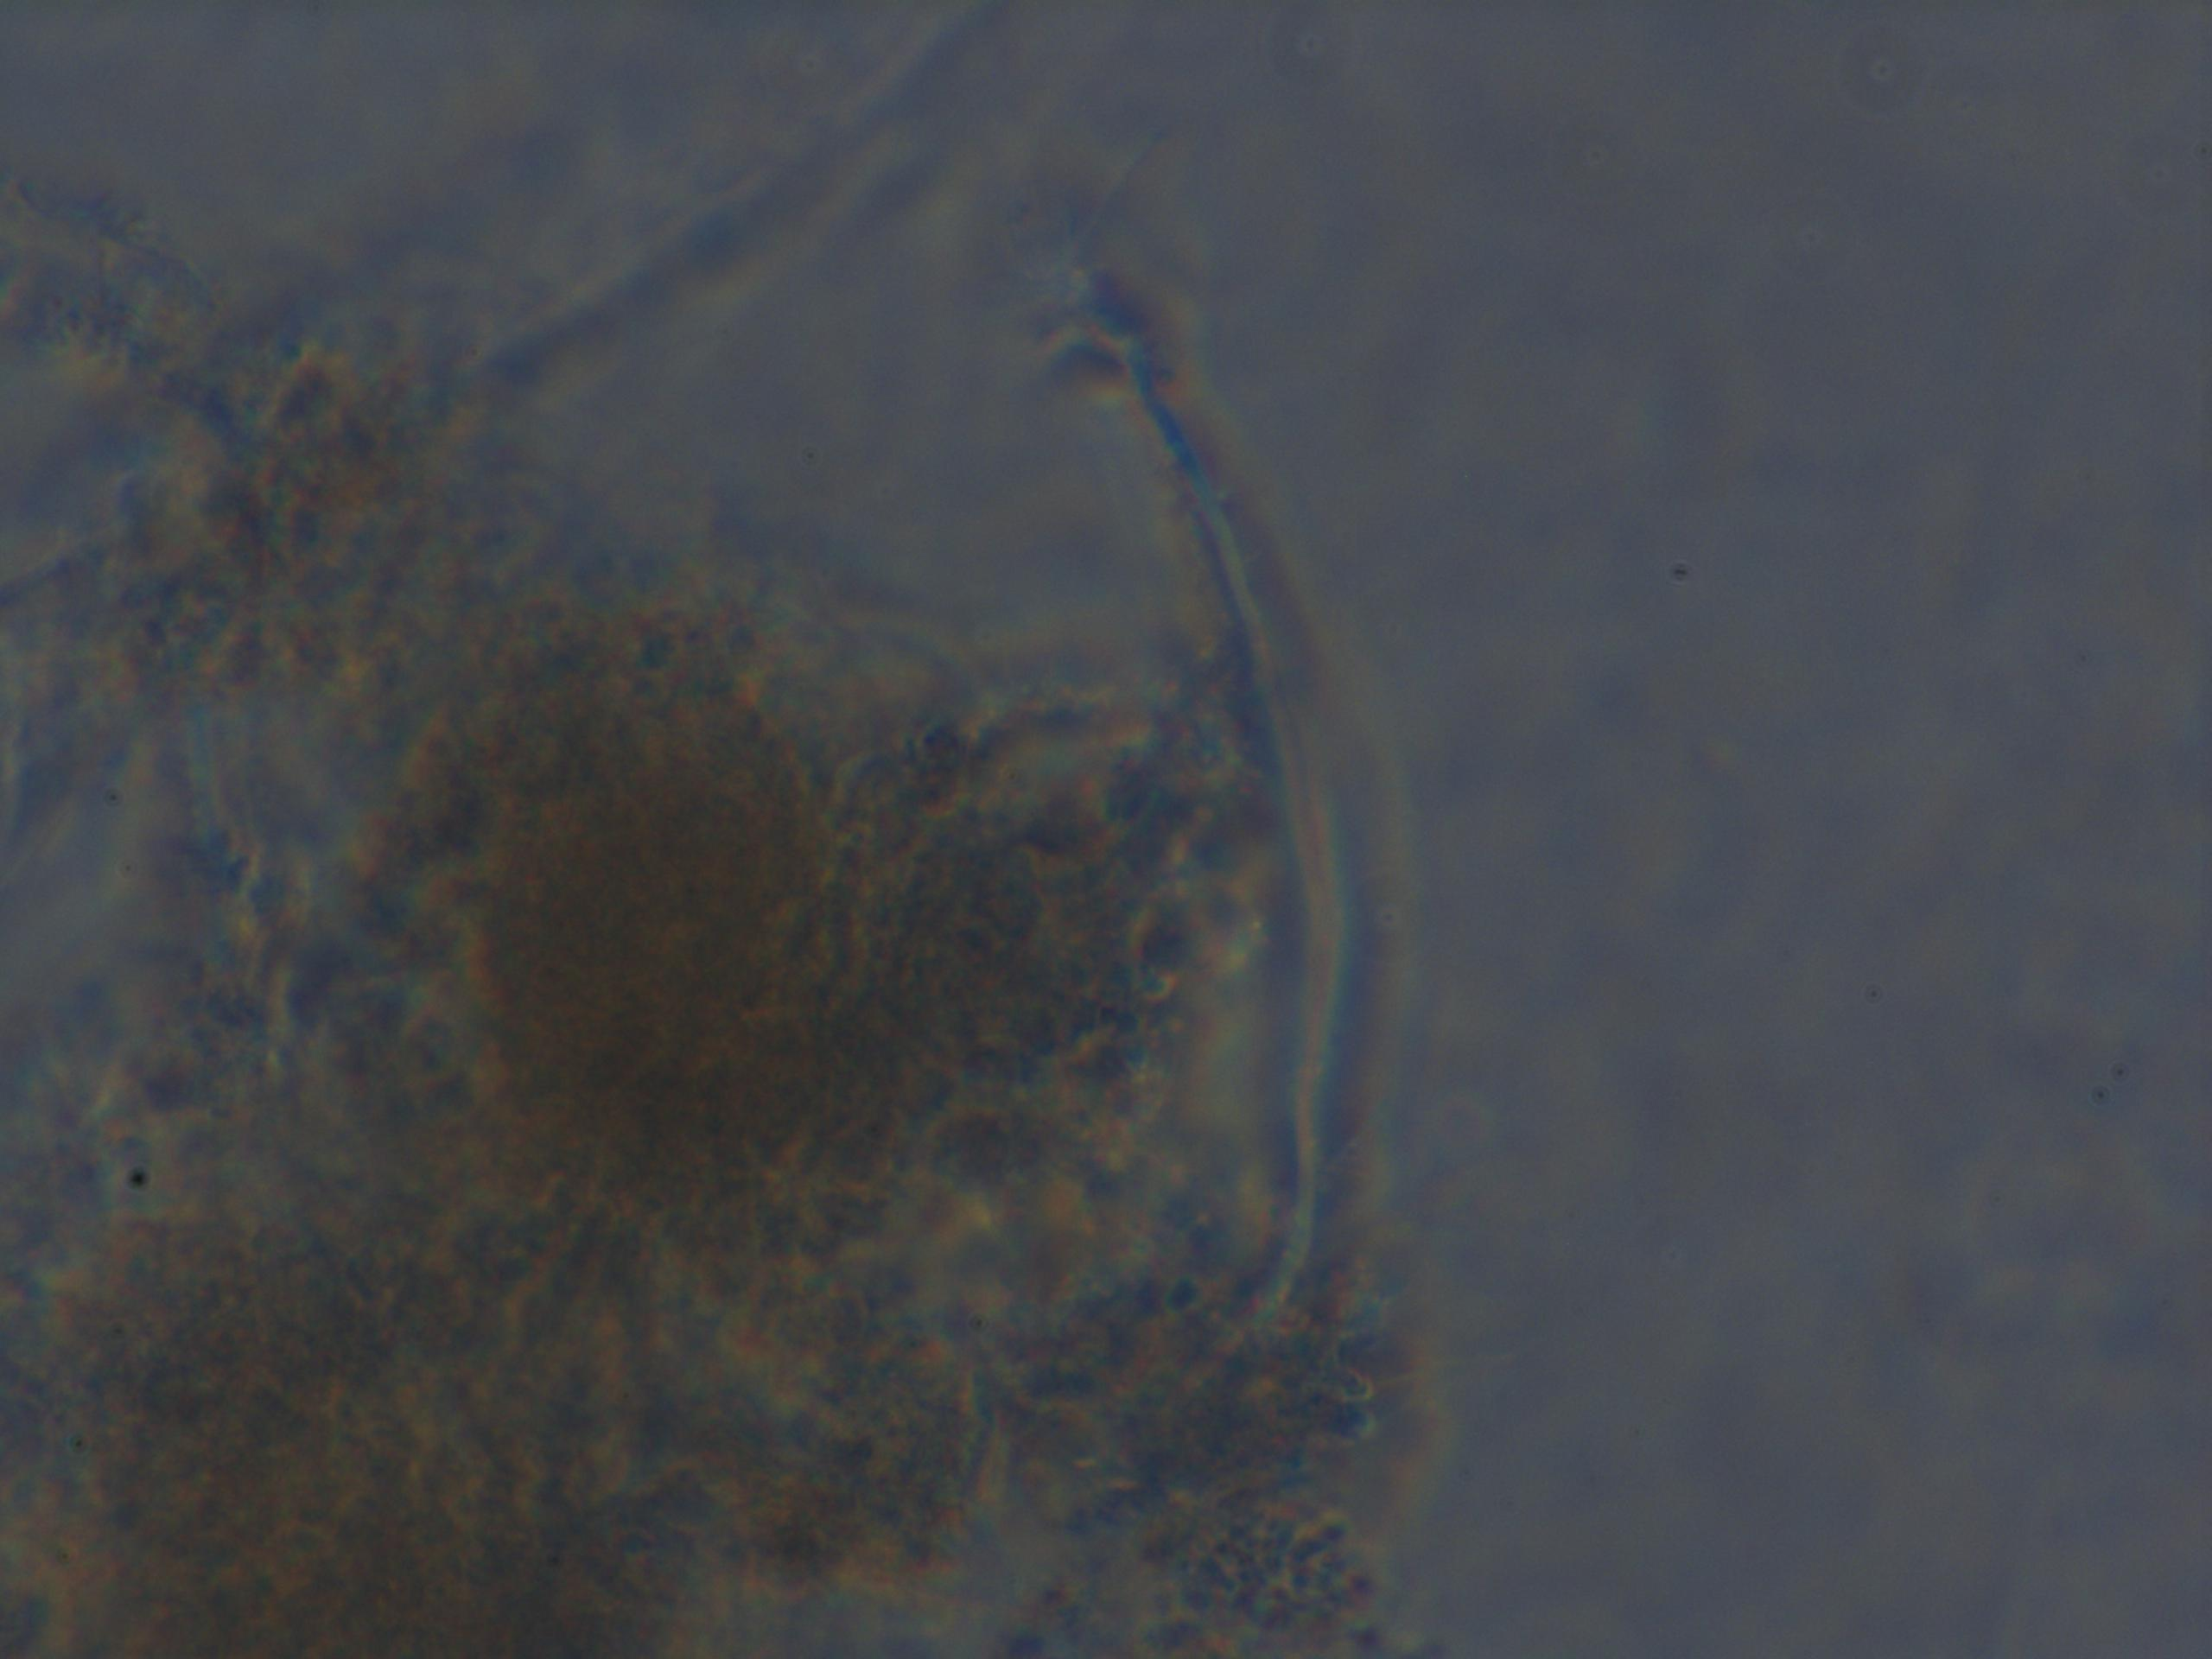filament: (1083, 277, 1350, 1316), (402, 23, 1000, 437)
